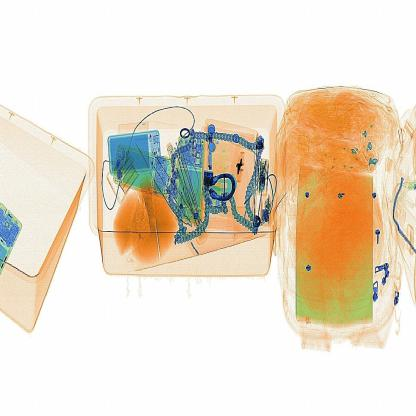gun: (227, 142, 251, 192)
